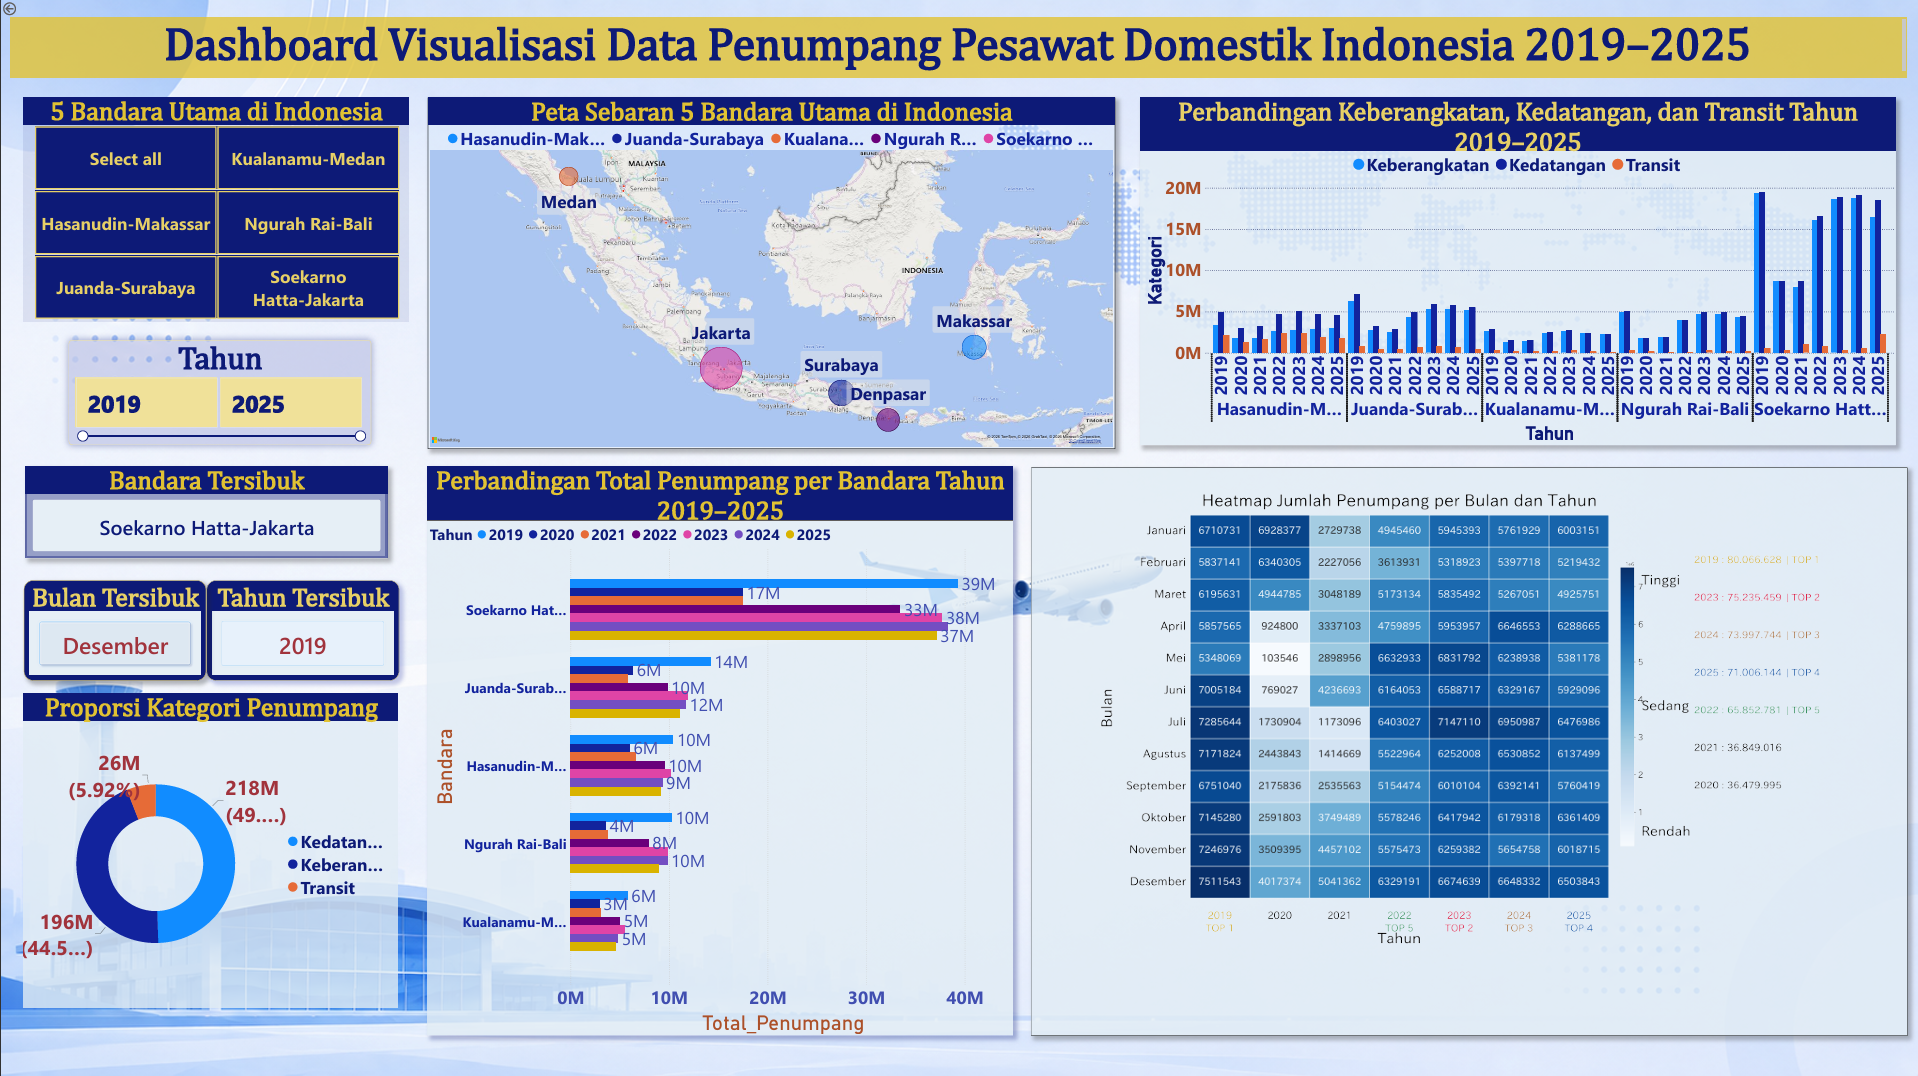

What the dashboard file says about the page in this screenshot:
{"tool":"powerbi","page":{"name":"Dashboard Visualisasi Data Penumpang Pesawat Domestik Indonesia 2019–2025","canvas":[4450,2500],"ordinal":0},"visuals":[{"type":"clusteredBarChart","title":"Perbandingan Total Penumpang per Bandara Tahun 2019–2025","fields":{"Category":["data_pivot_bandara.Bandara"],"Series":["data_pivot_bandara.Tahun"],"Y":["data_pivot_bandara.Total_Penumpang"]},"box":[990,1083.3,1358.2,1321.3],"z":0},{"type":"clusteredColumnChart","title":"Perbandingan Keberangkatan, Kedatangan, dan Transit Tahun 2019–2025","fields":{"Category":["data_pivot_bandara.Bandara","data_pivot_bandara.Tahun"],"Y":["Sum(data_pivot_bandara.Keberangkatan)","Sum(data_pivot_bandara.Kedatangan)","Sum(data_pivot_bandara.Transit)"]},"box":[2643.3,226.7,1753.3,806.7],"z":1000},{"type":"slicer","title":"Tahun","fields":{"Values":["data_pivot_bandara.Tahun"]},"box":[156.6,788.7,701.7,243.6],"z":2000},{"type":"slicer","title":"5 Bandara Utama di Indonesia","fields":{"Values":["data_pivot_bandara.Bandara"]},"box":[52.6,226.4,894.9,521.2],"z":3000},{"type":"actionButton","box":[0,0,100,40],"z":4000},{"type":"cardVisual","title":"Tahun Tersibuk","fields":{"Data":["data_pivot_bandara.Tahun Tertinggi Fix"]},"box":[476.7,1346.7,446.7,233.3],"z":5000},{"type":"cardVisual","title":"Bandara Tersibuk","fields":{"Data":["data_pivot_bandara.Bandara Terbanyak"]},"box":[56.7,1083.3,840,213.3],"z":6000},{"type":"cardVisual","title":"Bulan Tersibuk","fields":{"Data":["data_pivot_bandara.Bulan_Tersibuk"]},"box":[53.3,1346.7,423.3,233.3],"z":7000},{"type":"pythonVisual","fields":{"Values":["data_pivot_bandara.Bulan","data_pivot_bandara.Tahun","data_pivot_bandara.Total_Penumpang"]},"box":[2390,1085,2032.5,1320],"z":8000},{"type":"donutChart","title":"Proporsi Kategori Penumpang","fields":{"Y":["Sum(data_pivot_bandara.Kedatangan)","Sum(data_pivot_bandara.Keberangkatan)","Sum(data_pivot_bandara.Transit)"]},"box":[53.3,1610,870,730],"z":9000},{"type":"textbox","box":[23.4,40.9,4401.3,140.3],"z":10000},{"type":"map","title":"Peta Sebaran 5 Bandara Utama di Indonesia","fields":{"Category":["Lokasi_Bandara.Kota"],"Series":["data_pivot_bandara.Bandara"],"Size":["data_pivot_bandara.Total_Penumpang"],"X":["Min(Lokasi_Bandara.Longitude)"],"Y":["Min(Lokasi_Bandara.Latitude)"]},"box":[989.7,226.4,1595.1,816],"z":11000}]}

Visuals, with their boxes in screenshot pixels (x1, y1, x2, y2), scaled from the page's 4450x2500 canvas onto the 1918x1076 screenshot:
"Perbandingan Total Penumpang per Bandara Tahun 2019–2025" clusteredBarChart: {"x1": 427, "y1": 466, "x2": 1012, "y2": 1035}
"Perbandingan Keberangkatan, Kedatangan, dan Transit Tahun 2019–2025" clusteredColumnChart: {"x1": 1139, "y1": 98, "x2": 1895, "y2": 445}
"Tahun" slicer: {"x1": 67, "y1": 339, "x2": 370, "y2": 444}
"5 Bandara Utama di Indonesia" slicer: {"x1": 23, "y1": 97, "x2": 408, "y2": 322}
actionButton: {"x1": 0, "y1": 0, "x2": 43, "y2": 17}
"Tahun Tersibuk" cardVisual: {"x1": 205, "y1": 580, "x2": 398, "y2": 680}
"Bandara Tersibuk" cardVisual: {"x1": 24, "y1": 466, "x2": 386, "y2": 558}
"Bulan Tersibuk" cardVisual: {"x1": 23, "y1": 580, "x2": 205, "y2": 680}
pythonVisual - data_pivot_bandara.Bulan x data_pivot_bandara.Tahun: {"x1": 1030, "y1": 467, "x2": 1906, "y2": 1035}
"Proporsi Kategori Penumpang" donutChart: {"x1": 23, "y1": 693, "x2": 398, "y2": 1007}
textbox: {"x1": 10, "y1": 18, "x2": 1907, "y2": 78}
"Peta Sebaran 5 Bandara Utama di Indonesia" map: {"x1": 427, "y1": 97, "x2": 1114, "y2": 449}
